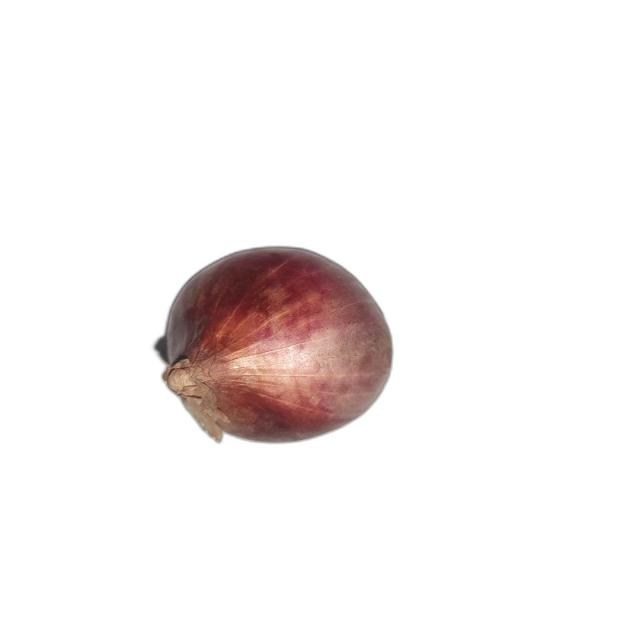onion: (160, 247, 396, 445)
